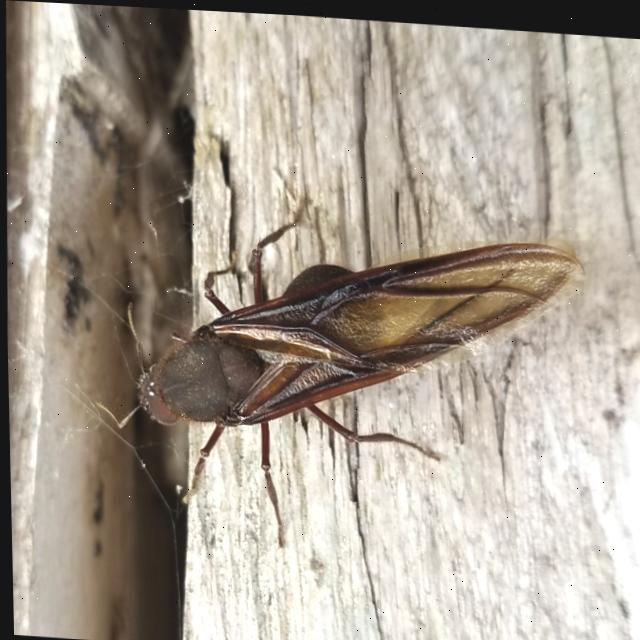Alive-Female-Alate: (85, 180, 592, 564)
